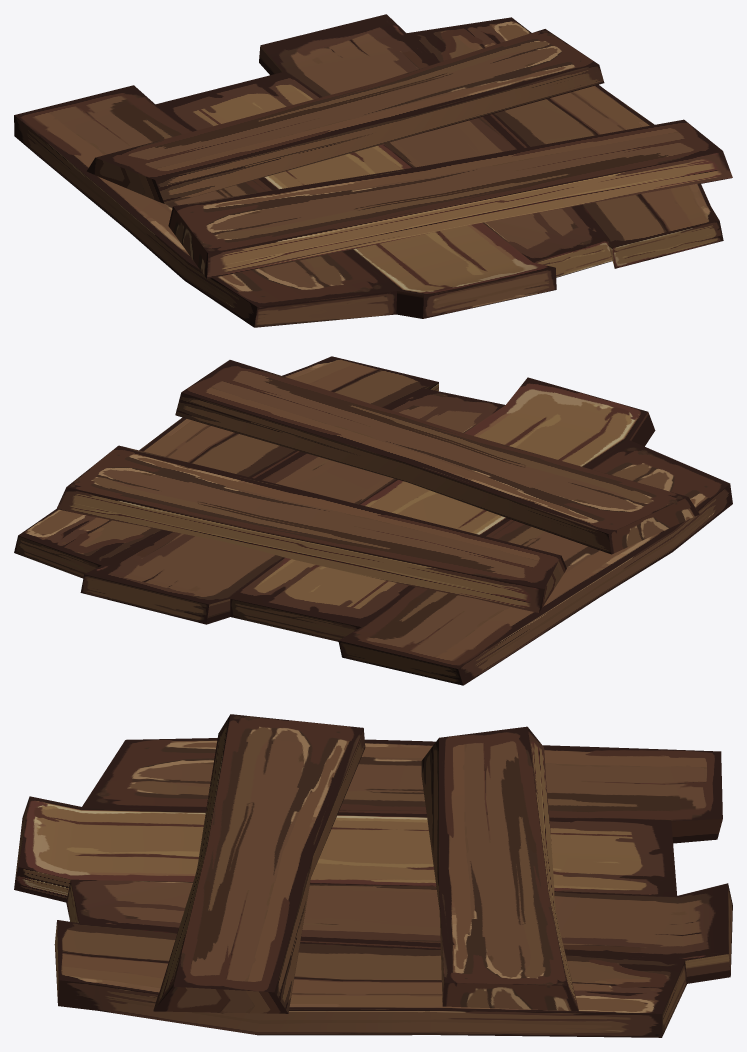
Rendered from SM_PROP_well_lid_dungeon.fbx.
The picture shows the model from 3 angles, top to bottom: view 1: azimuth 30°, elevation 25°; view 2: azimuth 150°, elevation 25°; view 3: azimuth 270°, elevation 25°; orthographic projection. The views are drawn at different scales.
Visible parts, largest first — view 1: SM_PROP_well_lid_dungeon; view 2: SM_PROP_well_lid_dungeon; view 3: SM_PROP_well_lid_dungeon.
Boxes of the visible parts, x1,y1,x2,y2 form: SM_PROP_well_lid_dungeon: (14, 14, 732, 327); SM_PROP_well_lid_dungeon: (14, 356, 732, 685); SM_PROP_well_lid_dungeon: (14, 714, 732, 1037).
Bounding box in the file's own units: 198 × 18.17 × 214.
